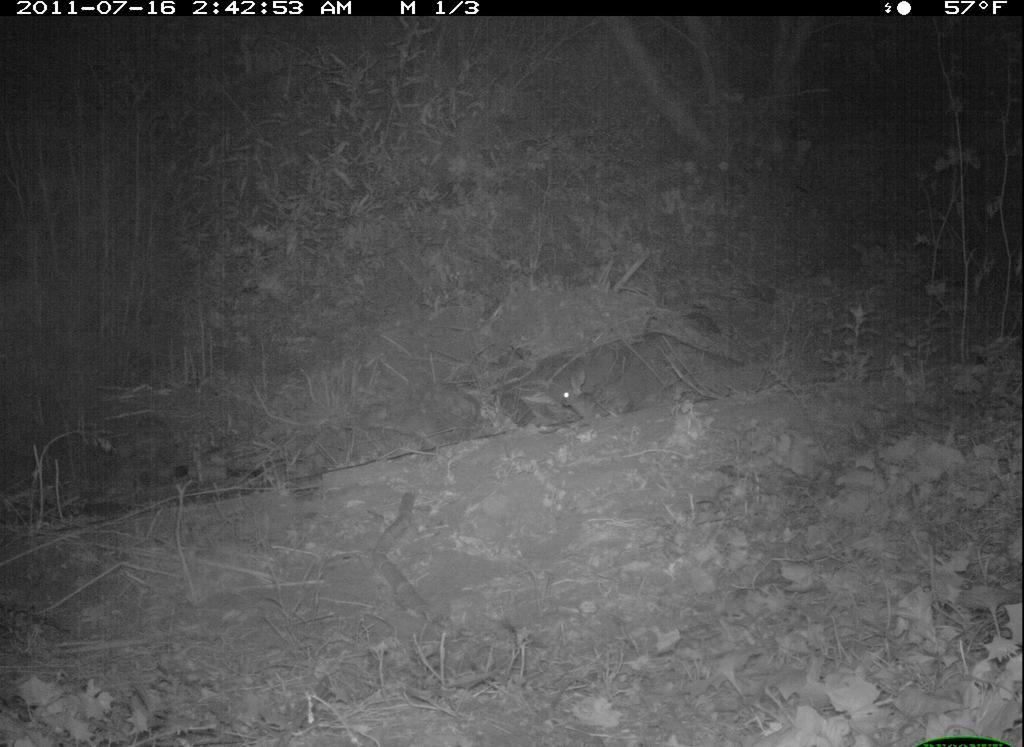rabbit: (528, 358, 658, 436)
